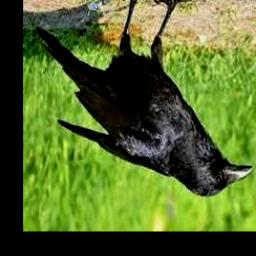Crow: (37, 0, 256, 197)
